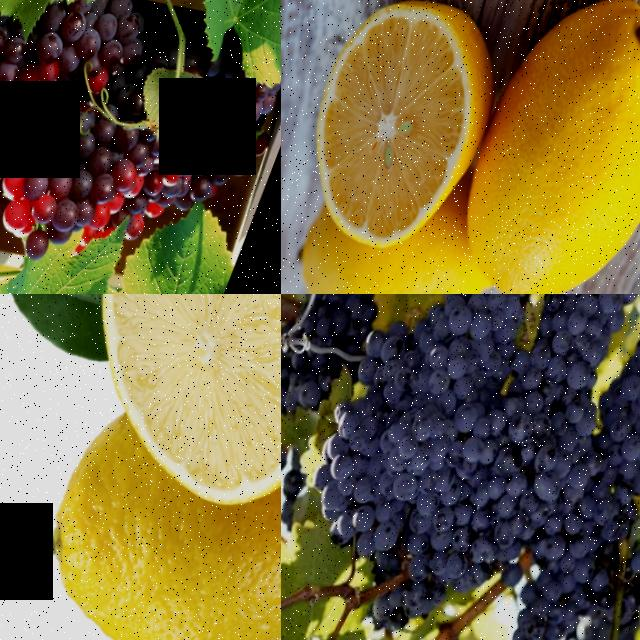grapes: (305, 369, 565, 604), (486, 294, 640, 481), (0, 85, 132, 270), (497, 471, 629, 640), (400, 294, 578, 408), (567, 294, 640, 521), (30, 0, 154, 104)
lemon: (447, 0, 640, 294), (290, 0, 516, 238), (14, 439, 281, 640), (46, 294, 281, 522), (281, 211, 486, 294)
